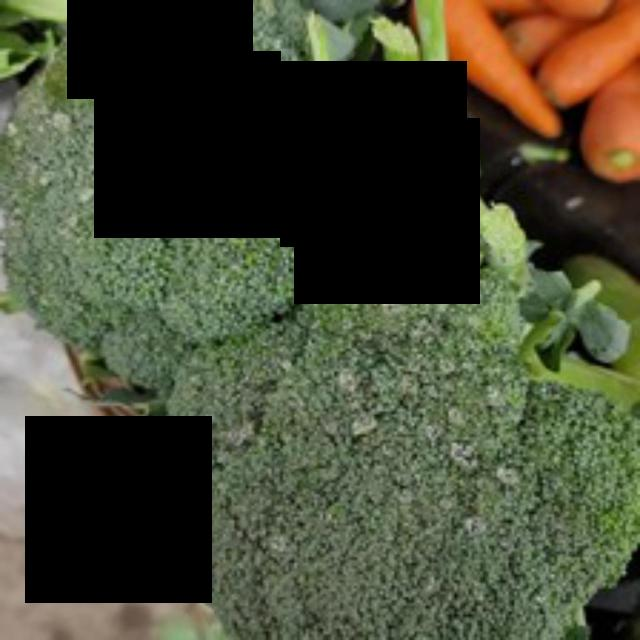broccoli: (151, 231, 637, 637)
